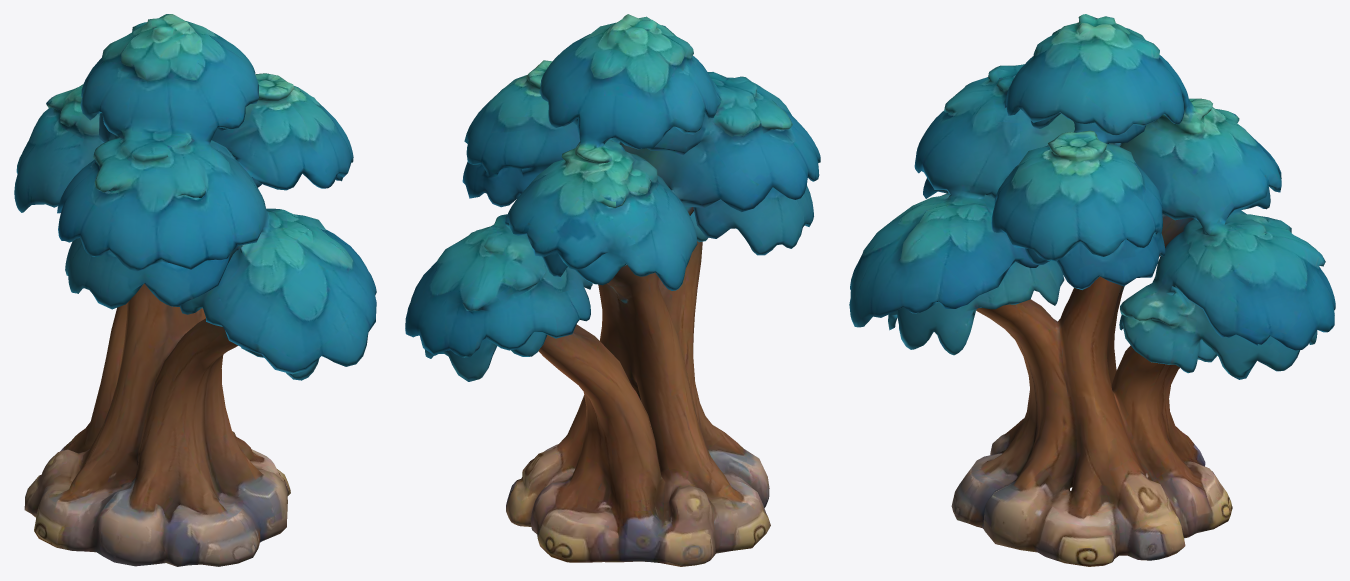
File: 09-garden-teal-dome-tree.glb
3 renders of one model, left to right at view 1: azimuth 30°, elevation 25°; view 2: azimuth 150°, elevation 25°; view 3: azimuth 270°, elevation 25°, orthographic.
Parts seen in each view (by area): view 1: tripo_node_a473a8bf; view 2: tripo_node_a473a8bf; view 3: tripo_node_a473a8bf.
Boxes of the visible parts, x1,y1,x2,y2 form: tripo_node_a473a8bf: (14, 14, 376, 566); tripo_node_a473a8bf: (405, 14, 820, 566); tripo_node_a473a8bf: (849, 14, 1335, 566).
Size of the model in its own units: 0.2511 by 0.4 by 0.3494.
Materials: 1 (1 with a texture image).
